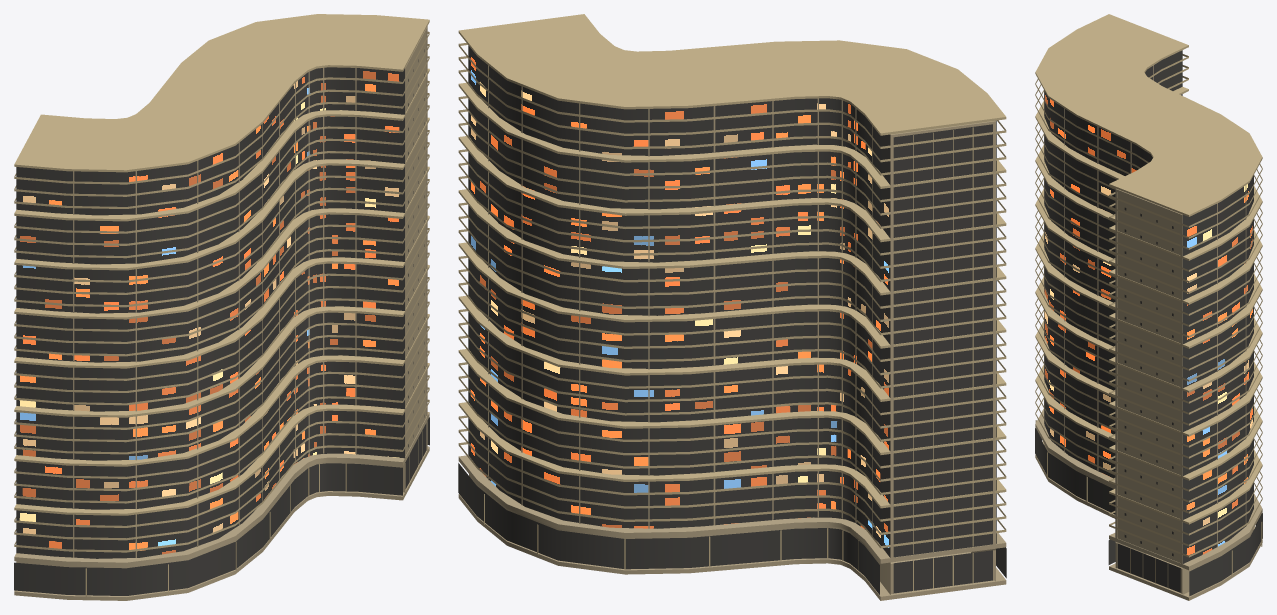
File: copan.lod1.glb
3 renders of one model, left to right at view 1: azimuth 30°, elevation 25°; view 2: azimuth 150°, elevation 25°; view 3: azimuth 270°, elevation 25°, orthographic. The views are drawn at different scales.
Parts seen in each view (by area): view 1: Copan_LOD1_Glass, Copan_LOD1_Trim, Copan_LOD1_Mass; view 2: Copan_LOD1_Glass, Copan_LOD1_Trim, Copan_LOD1_Mass; view 3: Copan_LOD1_Trim, Copan_LOD1_Glass, Copan_LOD1_Mass.
Boxes of the visible parts, <box> form: Copan_LOD1_Glass: <box>14,49,429,595</box>; Copan_LOD1_Trim: <box>14,14,429,596</box>; Copan_LOD1_Mass: <box>14,26,429,600</box>; Copan_LOD1_Glass: <box>458,45,1006,594</box>; Copan_LOD1_Trim: <box>458,14,1006,590</box>; Copan_LOD1_Mass: <box>458,65,1006,600</box>; Copan_LOD1_Trim: <box>1035,14,1262,587</box>; Copan_LOD1_Glass: <box>1035,50,1262,596</box>; Copan_LOD1_Mass: <box>1035,65,1262,600</box>.
Bounding box in the file's own units: 40.28 × 36 × 19.26.
